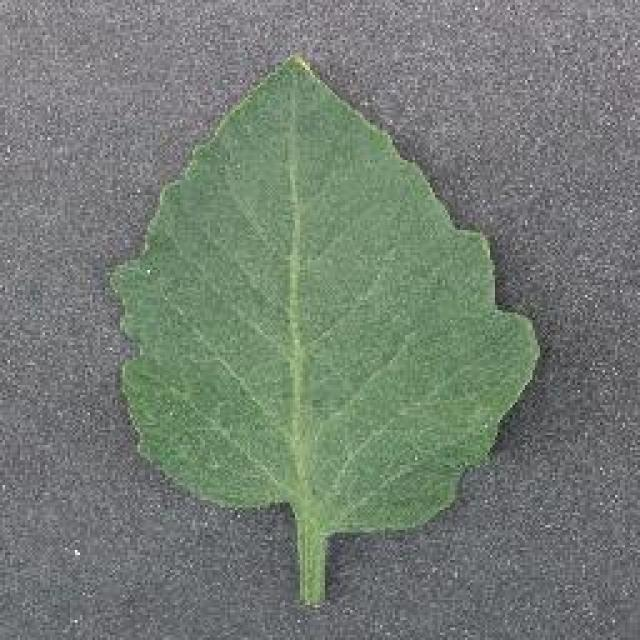healthy: (112, 55, 544, 602)
